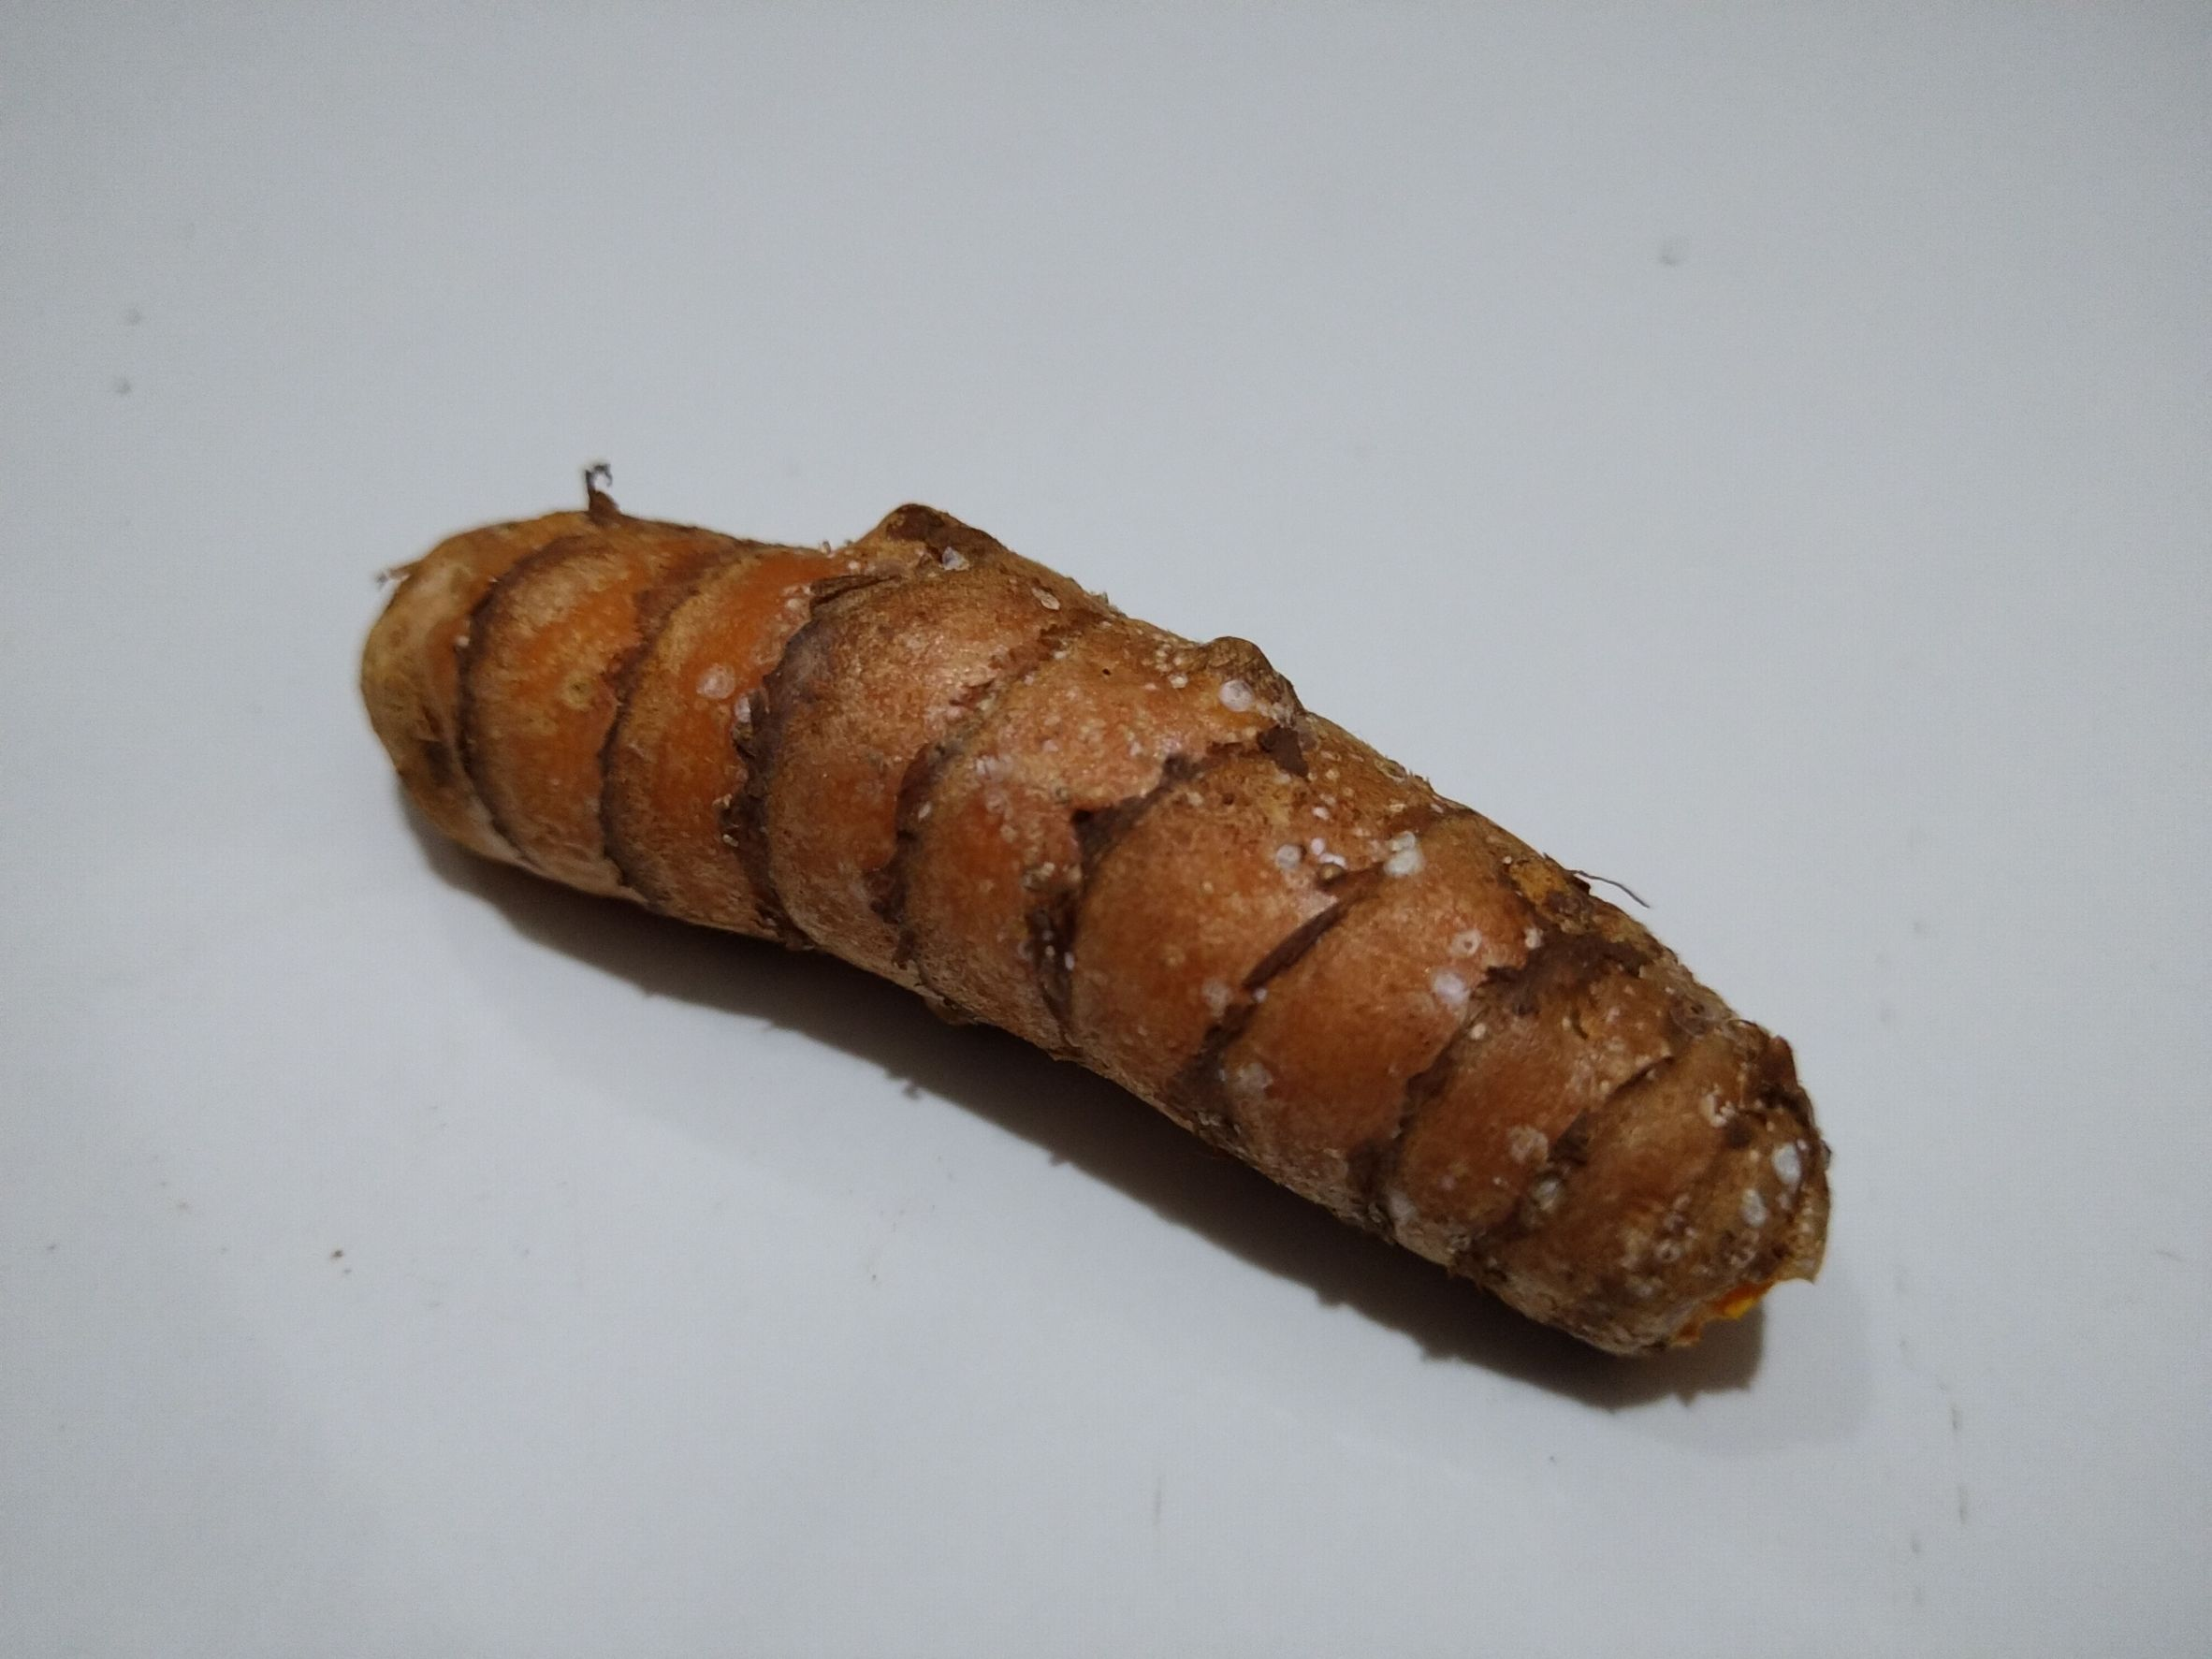Kunyit: (361, 507, 1820, 1392)
